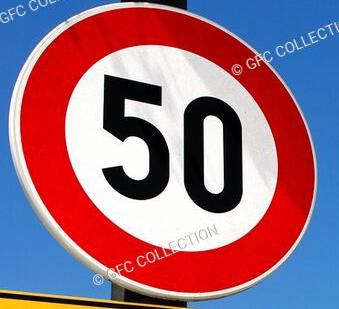Speed Limit -50-: (0, 1, 338, 308)
